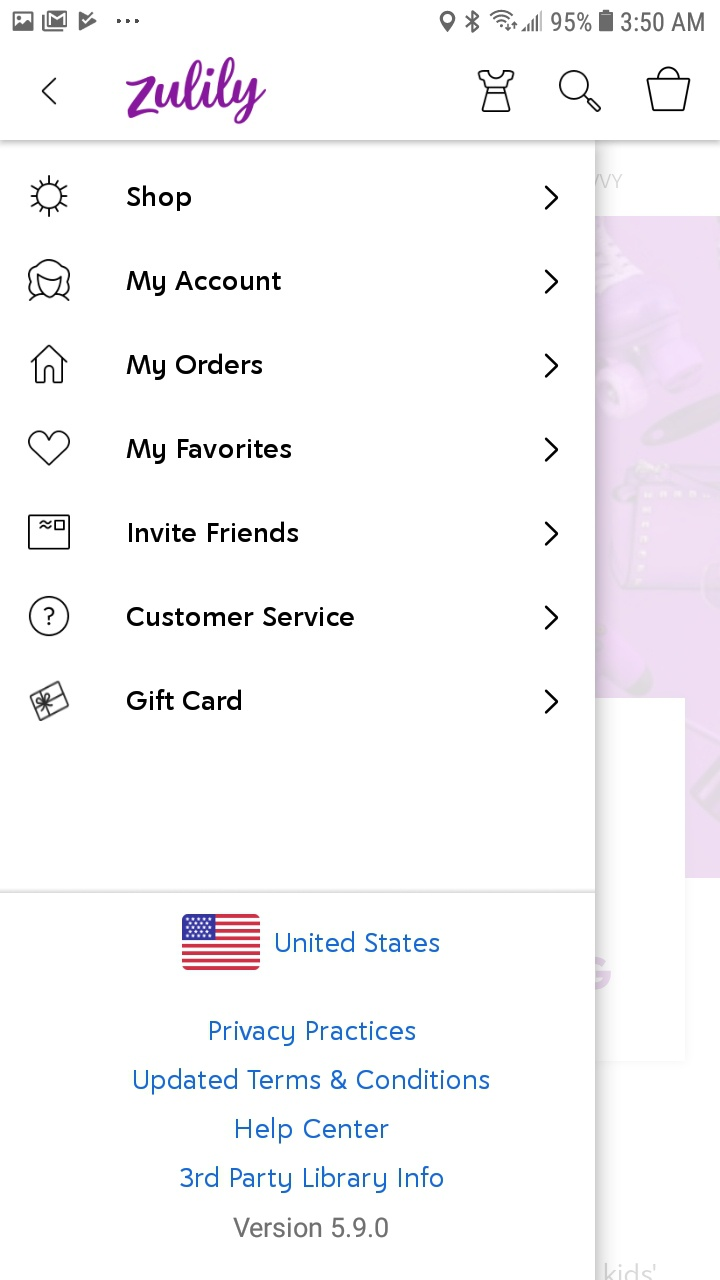Drawer: (1, 141, 595, 1279)
Icon: (646, 66, 691, 113), (559, 70, 602, 114), (29, 596, 71, 637), (30, 681, 70, 722), (28, 430, 72, 467), (28, 514, 71, 551), (31, 345, 69, 385), (42, 78, 58, 106), (544, 185, 559, 211), (544, 605, 559, 631), (545, 269, 559, 295), (545, 353, 559, 379), (545, 437, 559, 463), (545, 689, 559, 715), (545, 521, 558, 547)
Image: (126, 57, 267, 125), (182, 914, 261, 971), (28, 259, 71, 302), (31, 175, 69, 218), (478, 70, 515, 113)
Text: (134, 1067, 490, 1096), (180, 1165, 444, 1194), (210, 1020, 416, 1047), (127, 607, 355, 627), (236, 1116, 390, 1145), (127, 439, 292, 465), (127, 271, 282, 297), (127, 353, 263, 381), (129, 521, 299, 543), (276, 931, 440, 953), (233, 1216, 389, 1238), (127, 689, 242, 711), (127, 185, 192, 212)
UpperTaskBar: (1, 1, 720, 35)
